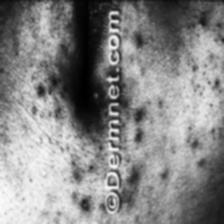Non-Cancerous Skin Condition: (168, 0, 224, 184), (32, 75, 102, 183), (125, 21, 162, 199)
